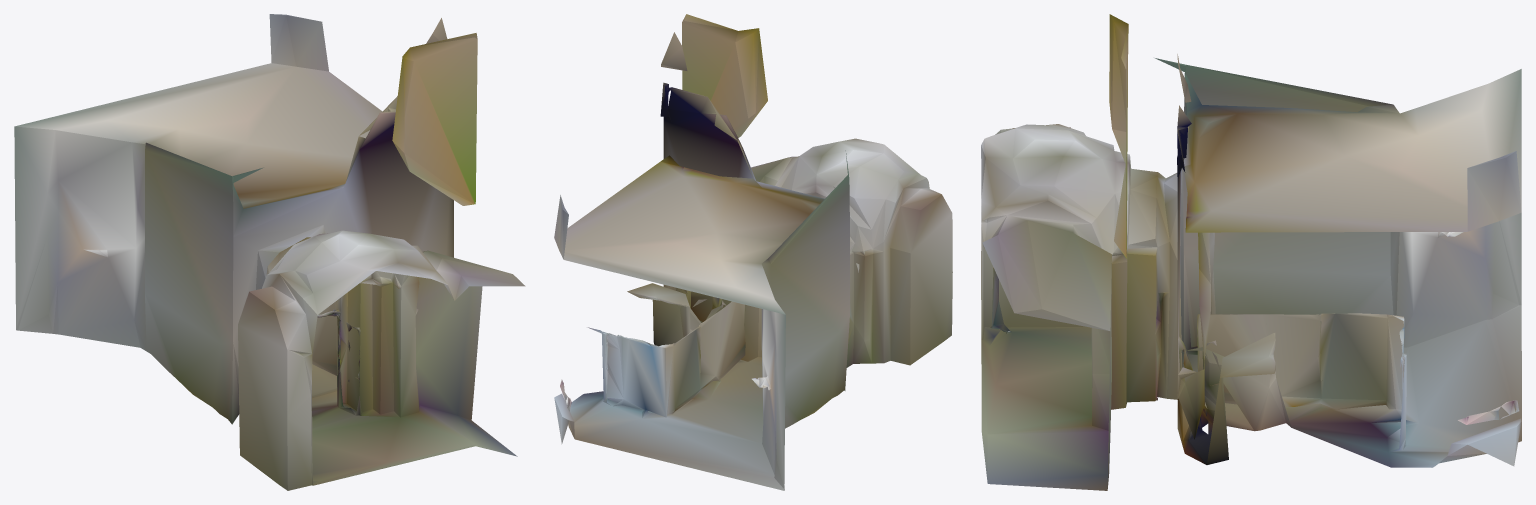
3 views of the same model, side by side, from view 1: azimuth 30°, elevation 25°; view 2: azimuth 150°, elevation 25°; view 3: azimuth 270°, elevation 25° (orthographic). The views are drawn at different scales.
Bounding box in the file's own units: 7.19 × 8.96 × 10.
